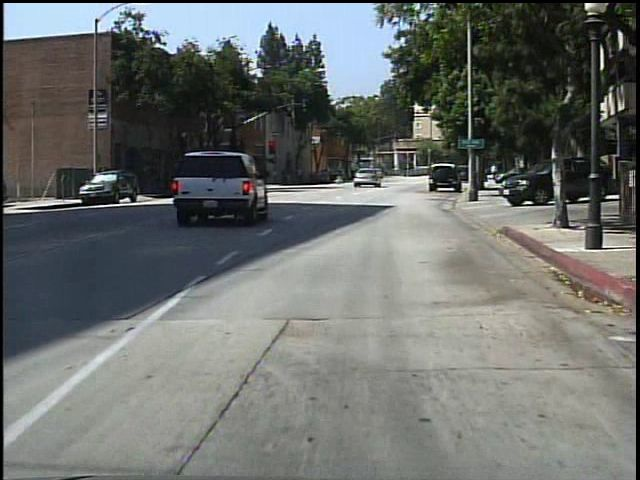person: (333, 166, 347, 187), (489, 161, 500, 182)
